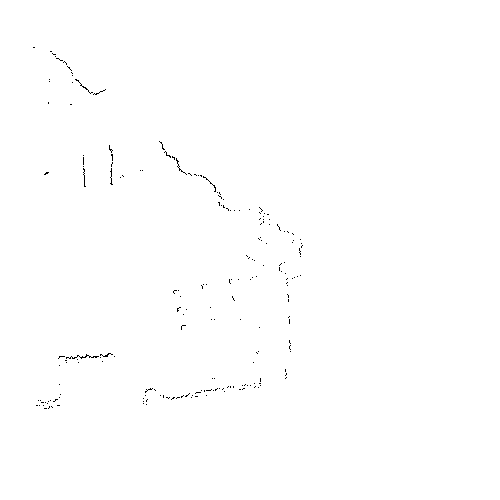pallet: (172, 276, 239, 330)
